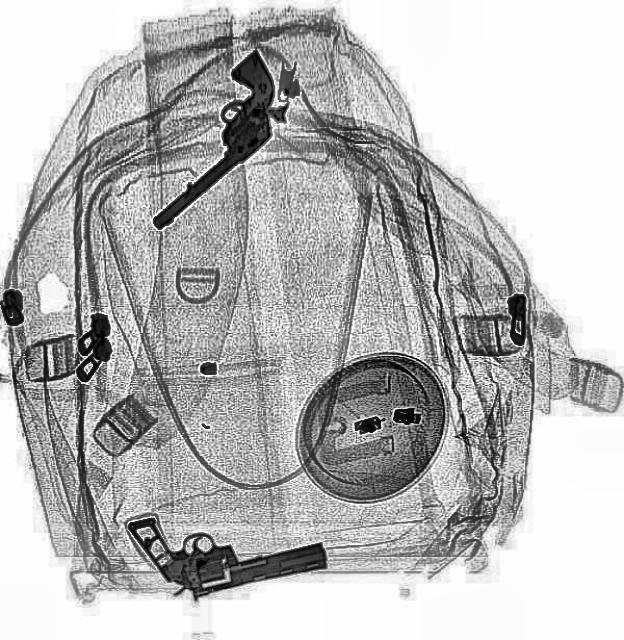Gun: (105, 48, 306, 230), (125, 479, 330, 611)
